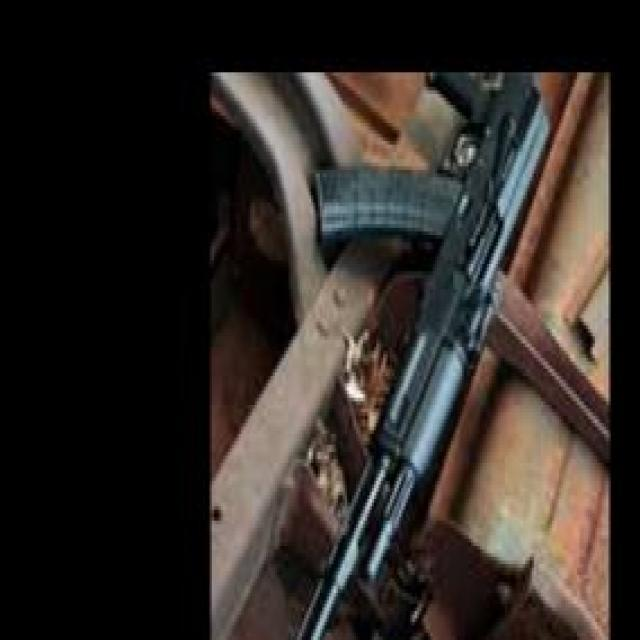weapon: (295, 73, 551, 640)
